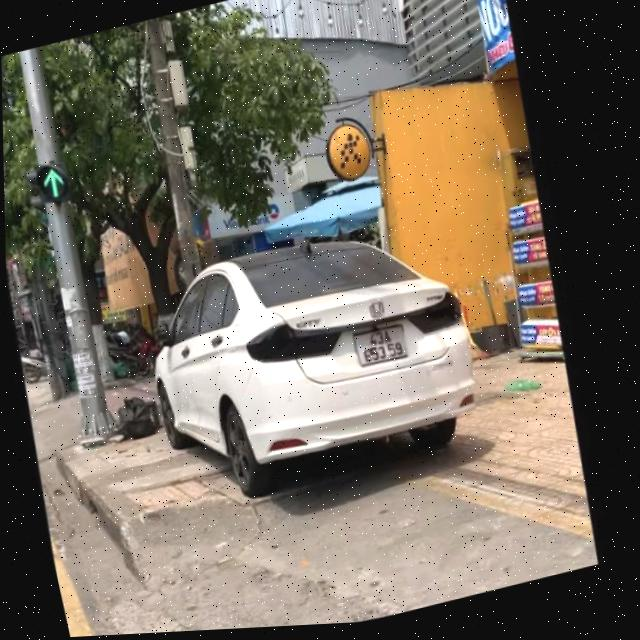car: (121, 196, 499, 532)
plate: (344, 310, 418, 376)
